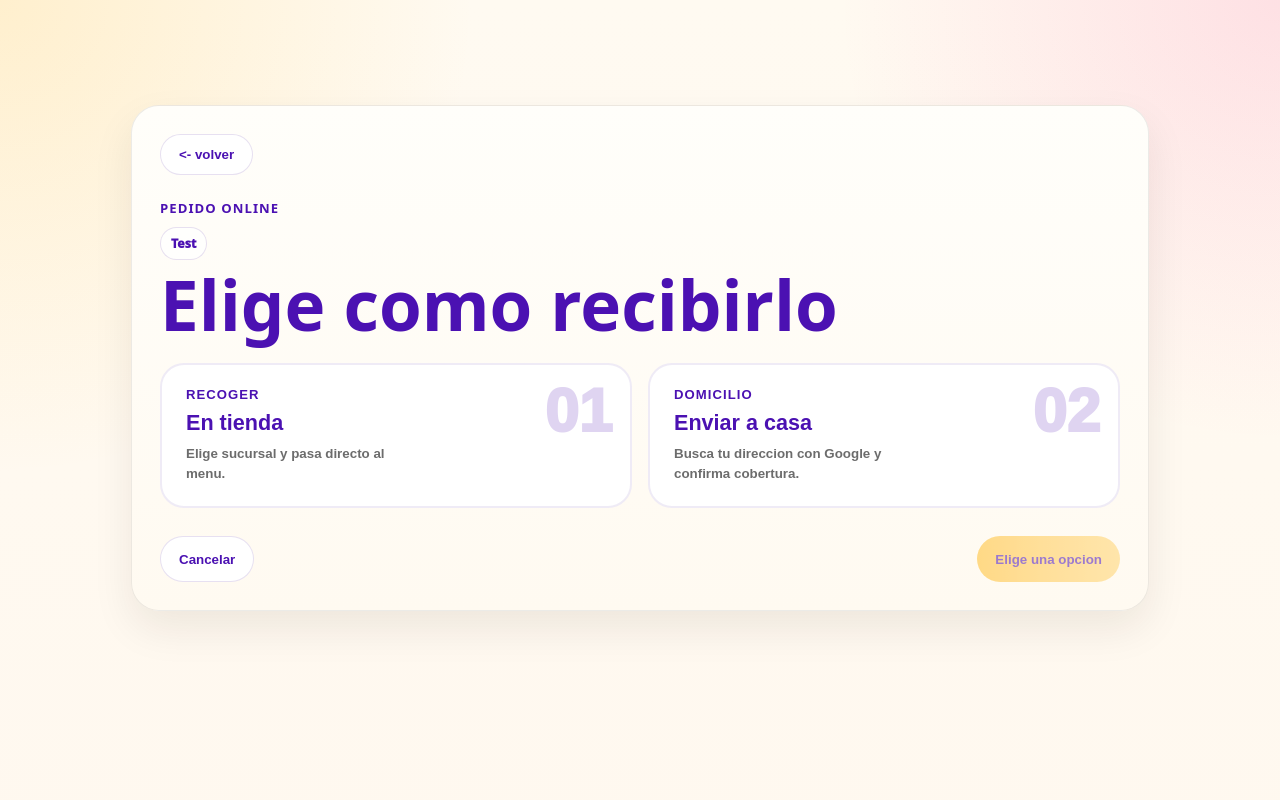
it: city Ourense with one store enters immediately without a store list
The width and height of the screenshot is (1280, 800).
Click the button "01 Recoger En tienda Elige sucursal y pasa directo al menu.": [578, 411] box [160,363,632,508]
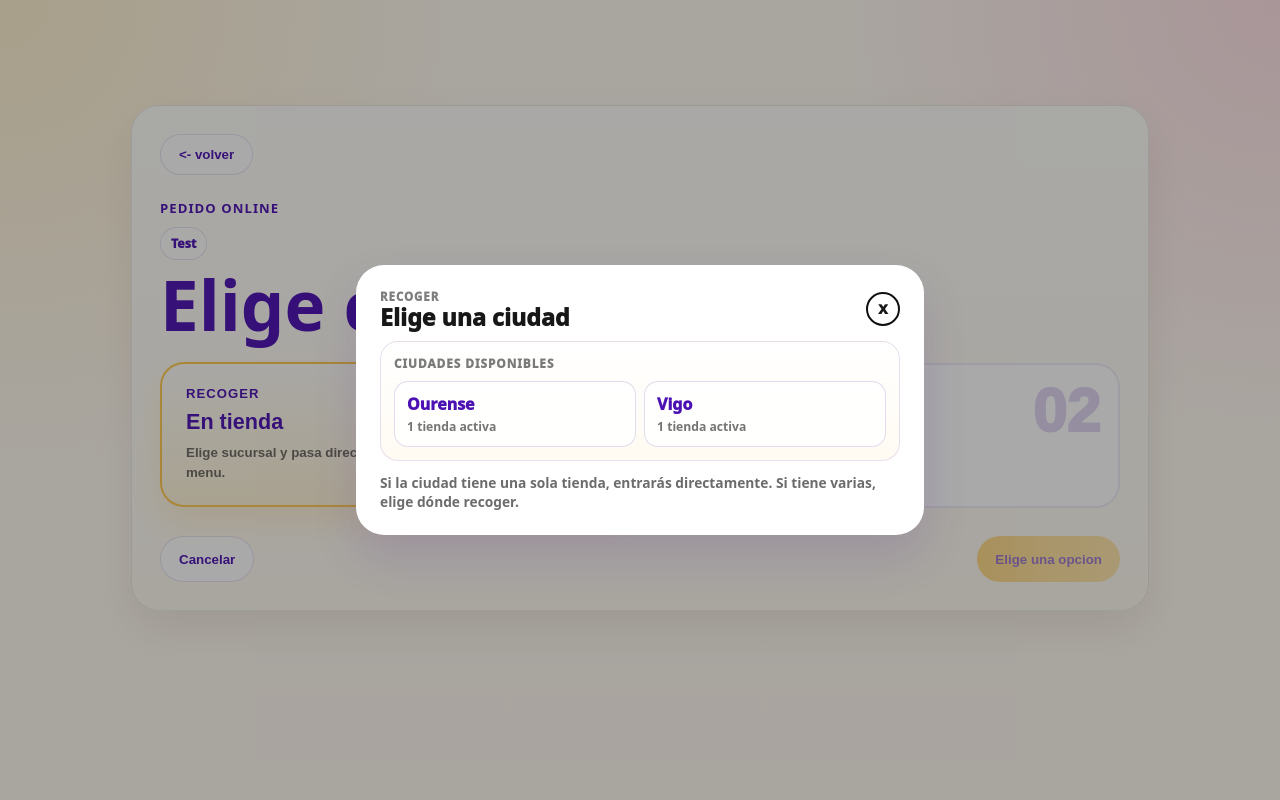
Click the button "Ourense 1 tienda activa": [515, 414] box [394,381,636,447]
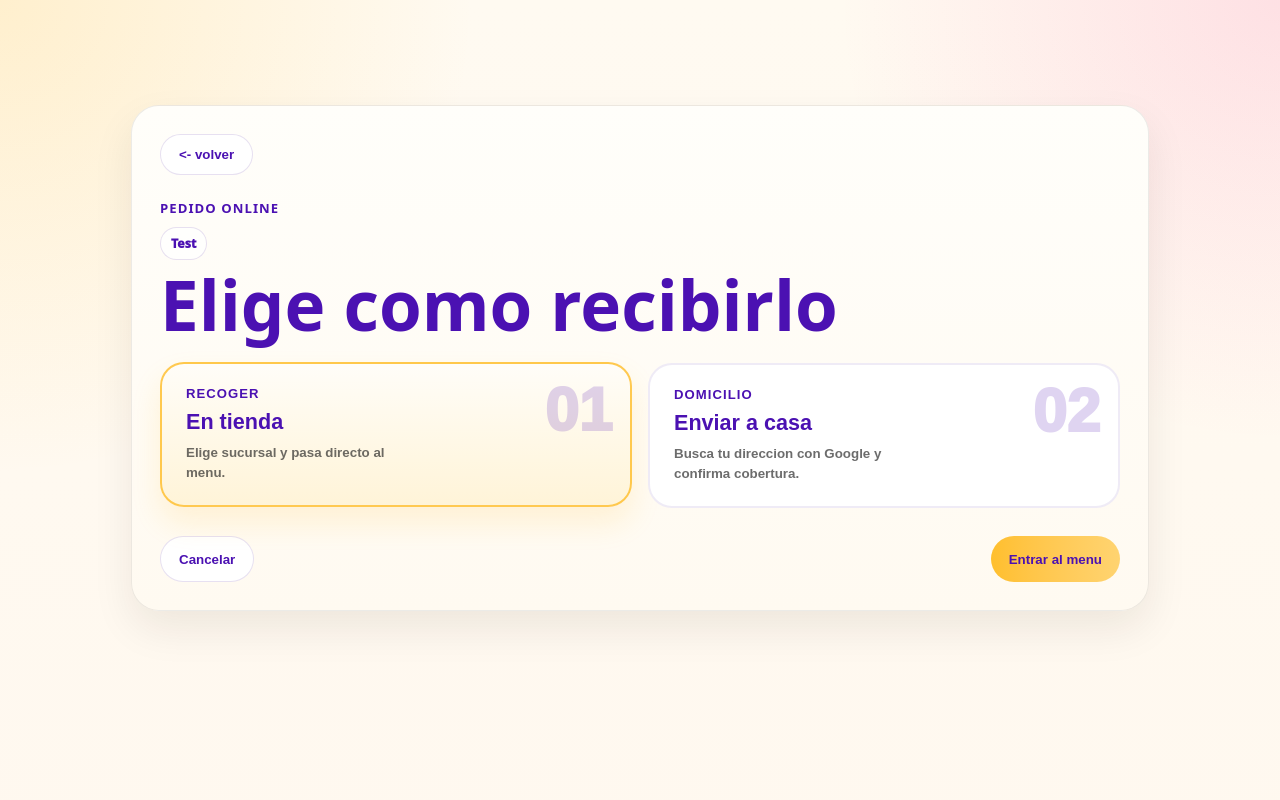
Result: the dialog is gone
